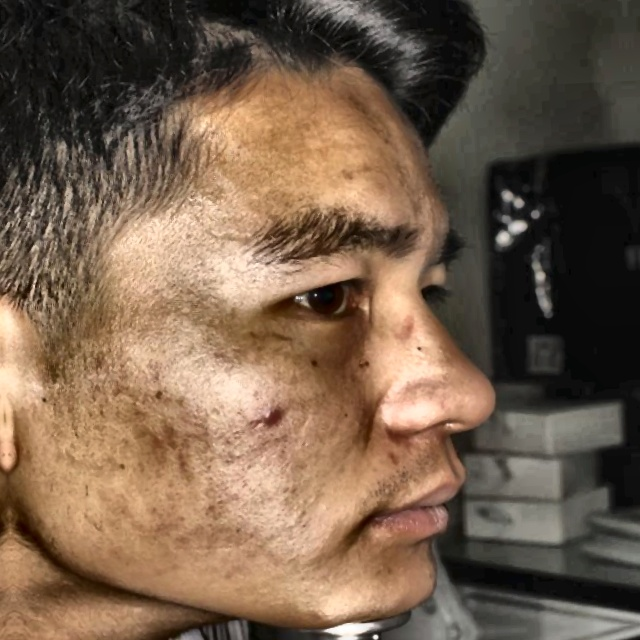comedone: (251, 401, 291, 439)
